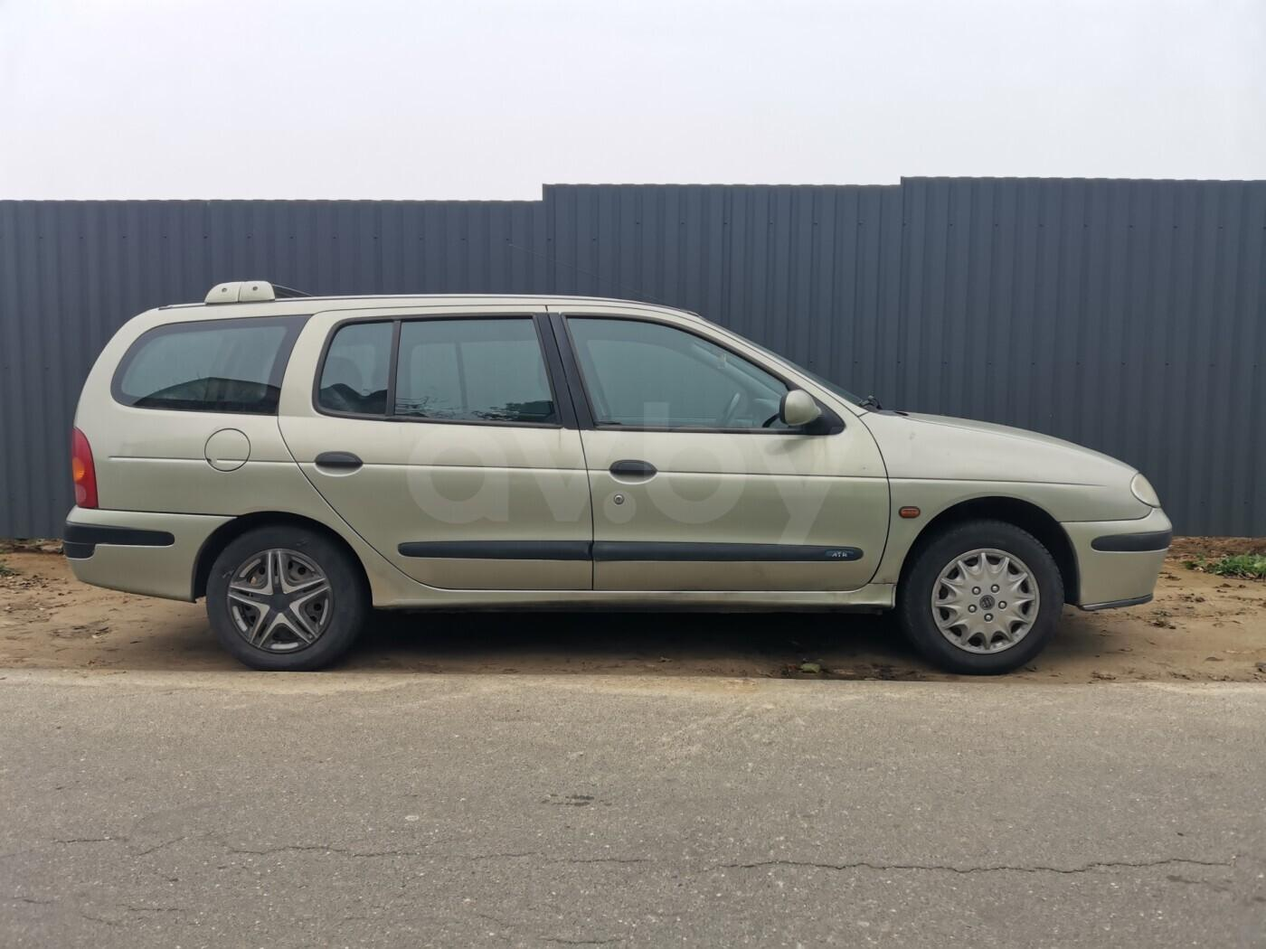Megane_1999-2003: (56, 291, 1178, 684)
